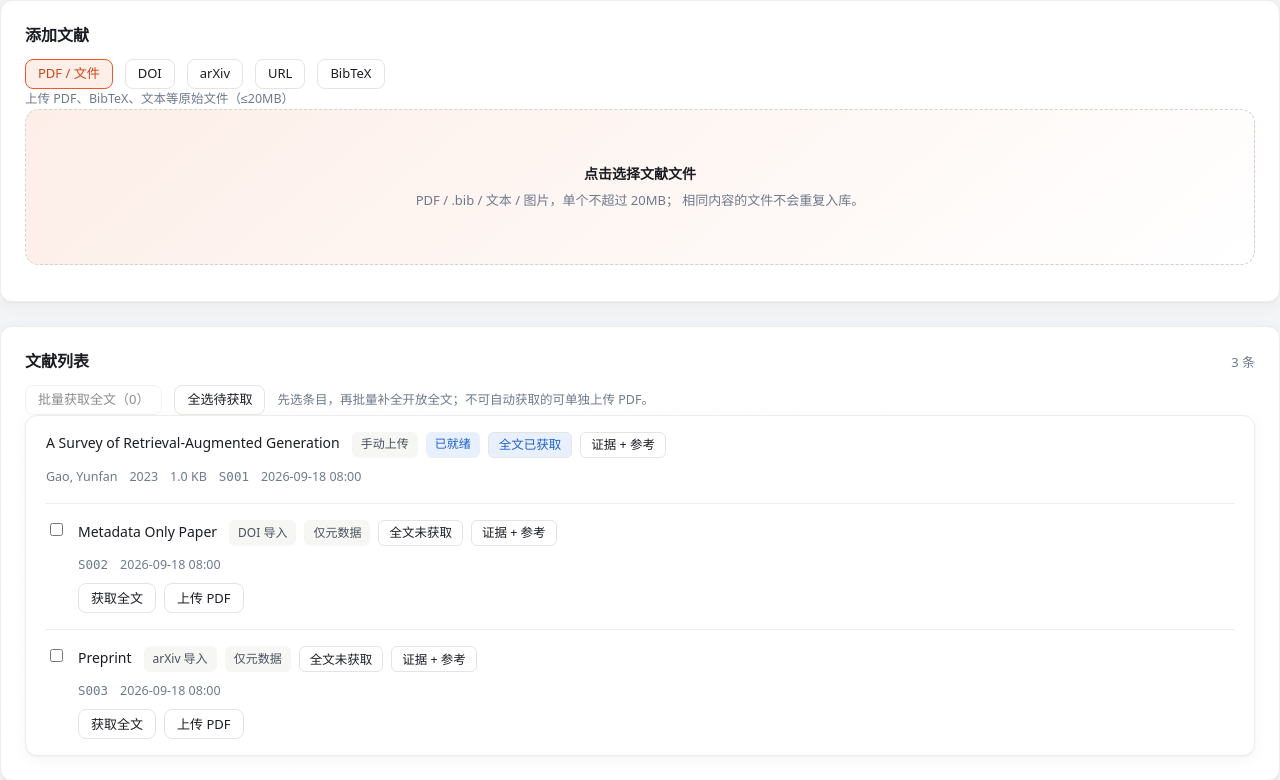
Test: SourcesPanel 批量获取全文（M9.3） › 勾选多条 → 批量端点携带 id；混合 summary 如实呈现（失败明细折叠）
The image size is (1280, 780).
Expected: the heading "文献列表" is shown, [25,351,89,372]
Expected: the button with test id "batch-resolve-fulltext" is disabled, [25,385,162,415]
Click the checkbox named "选择 Metadata Only Paper": (56, 529) [50,523,63,536]
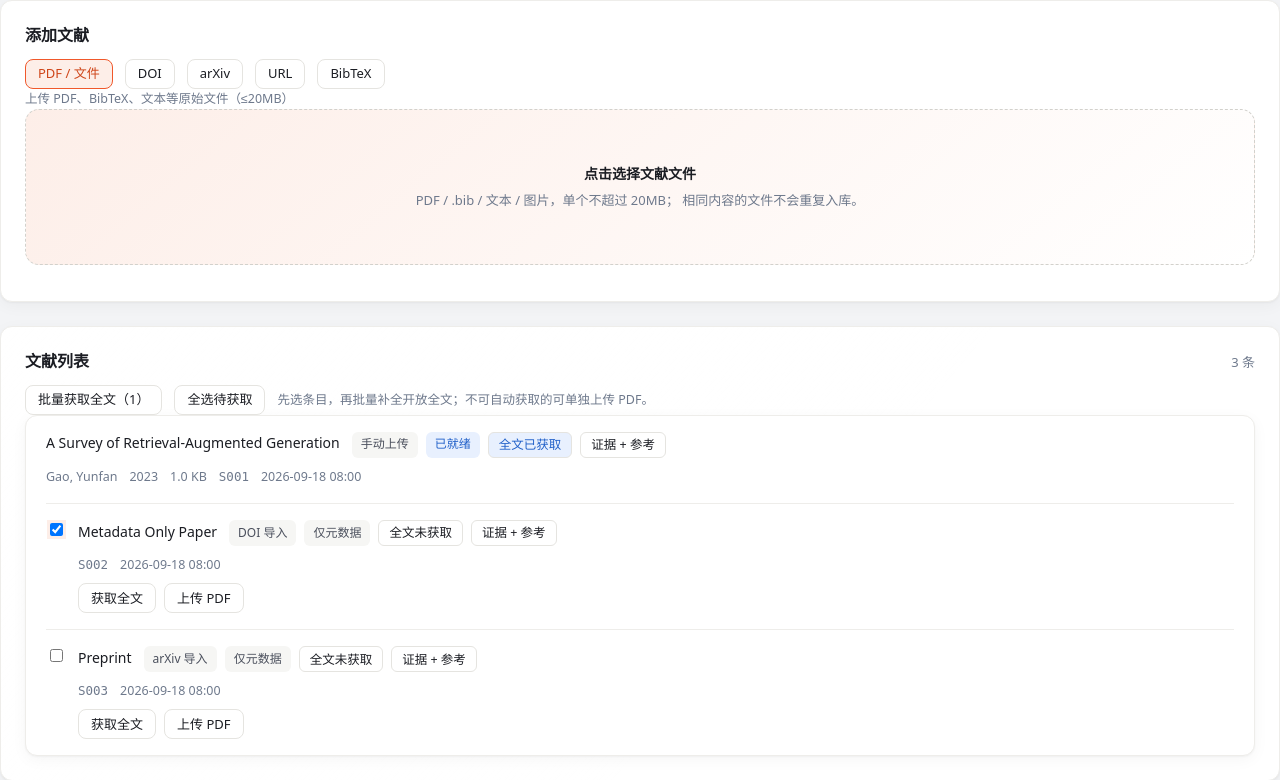
Click the checkbox named "选择 Preprint": (56, 656) [50,649,63,662]
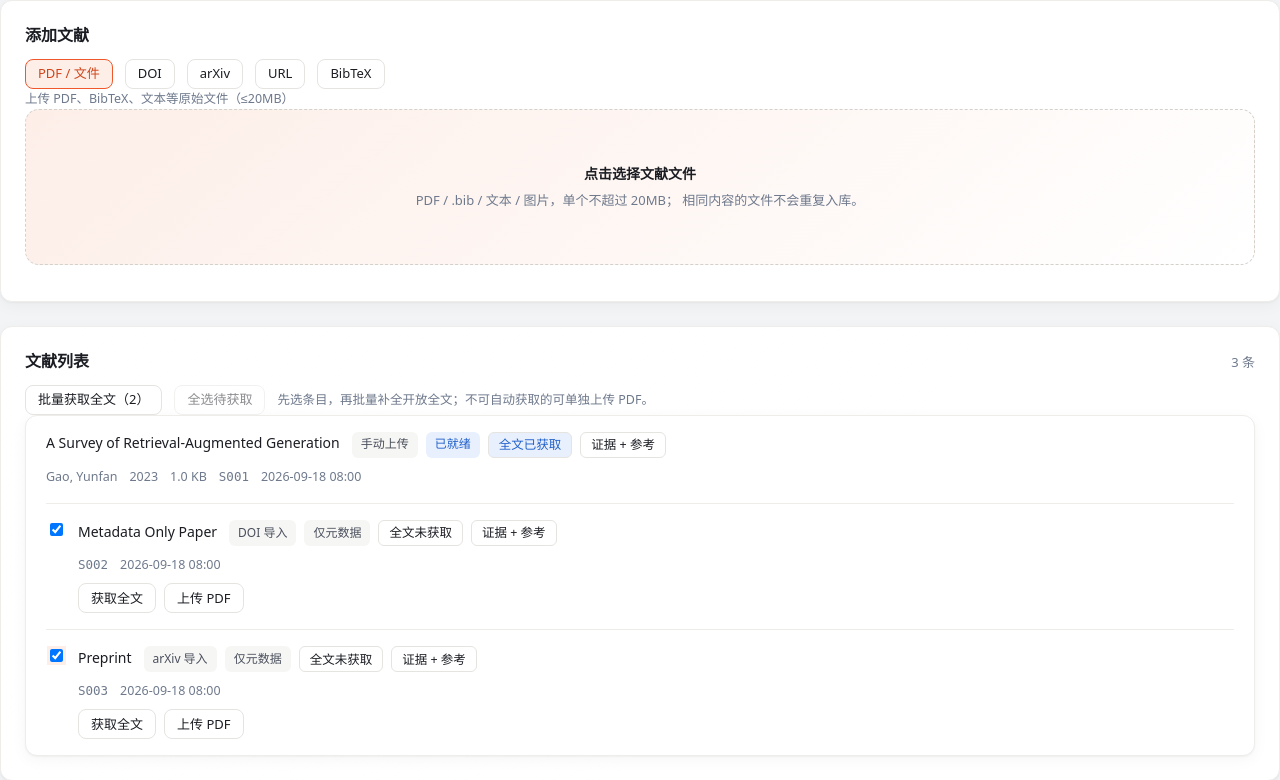
Click the button with test id "batch-resolve-fulltext": (94, 400) [25,385,162,415]
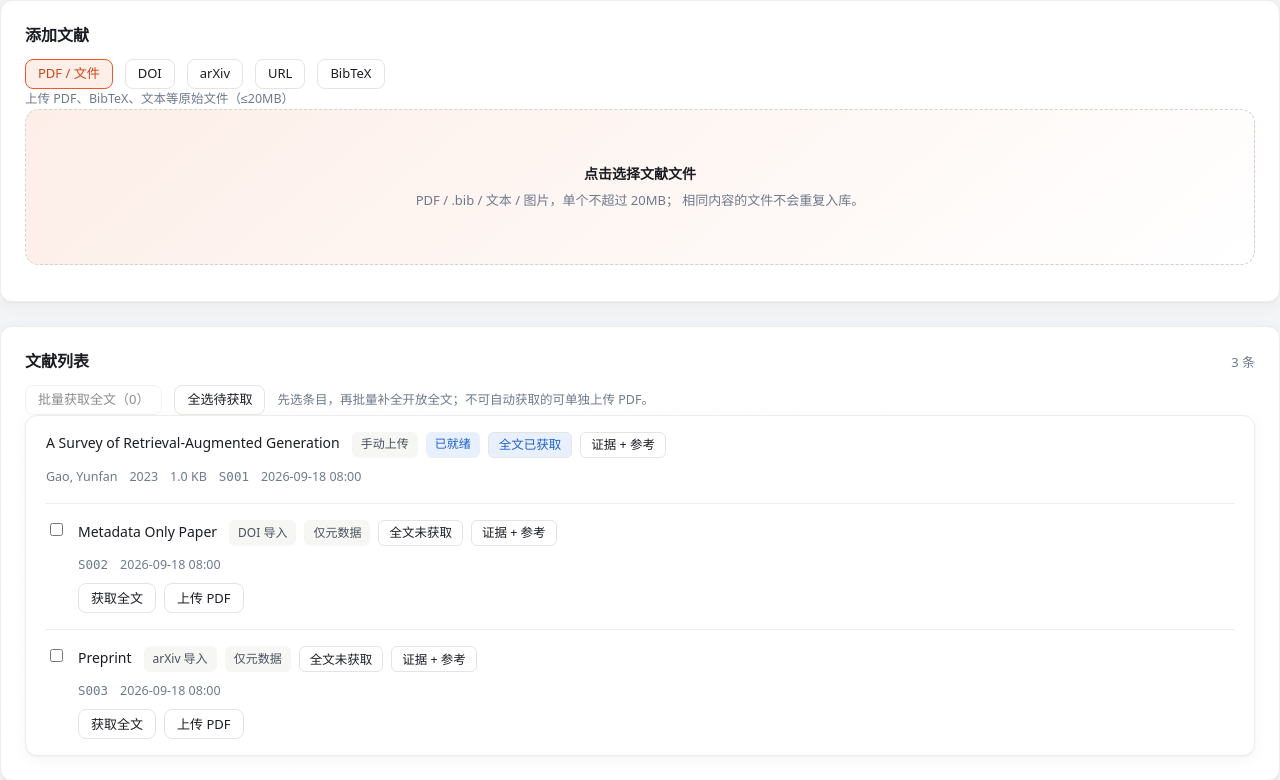
Click the checkbox named "选择 Metadata Only Paper": (56, 529) [50,523,63,536]
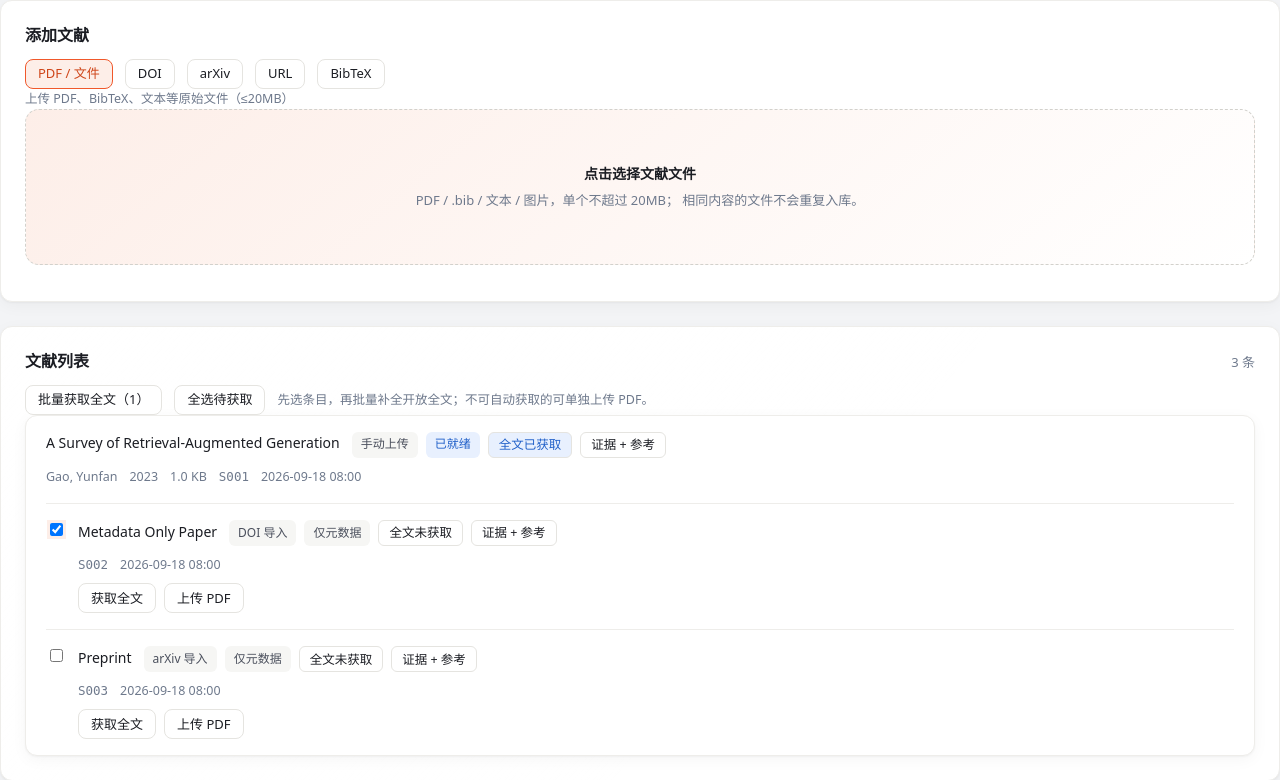
Click the checkbox named "选择 Preprint": (56, 656) [50,649,63,662]
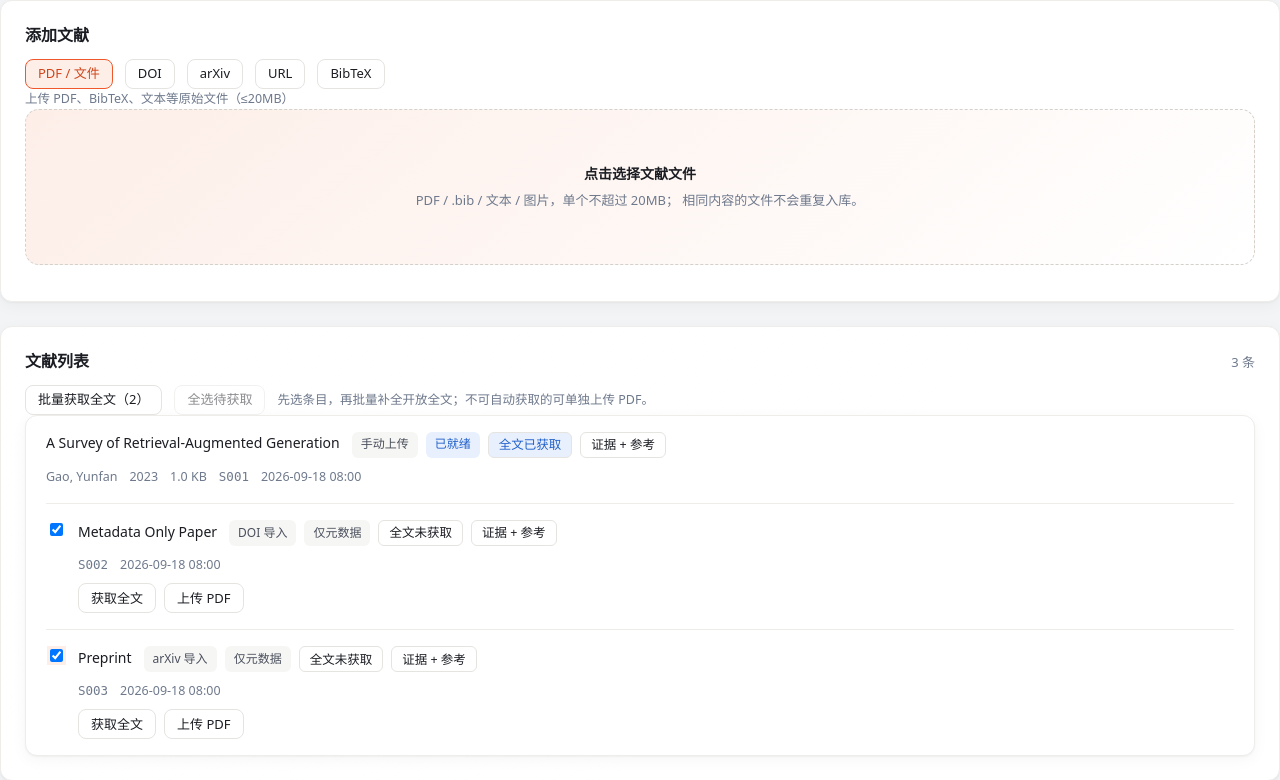
Click the button with test id "batch-resolve-fulltext": (94, 400) [25,385,162,415]
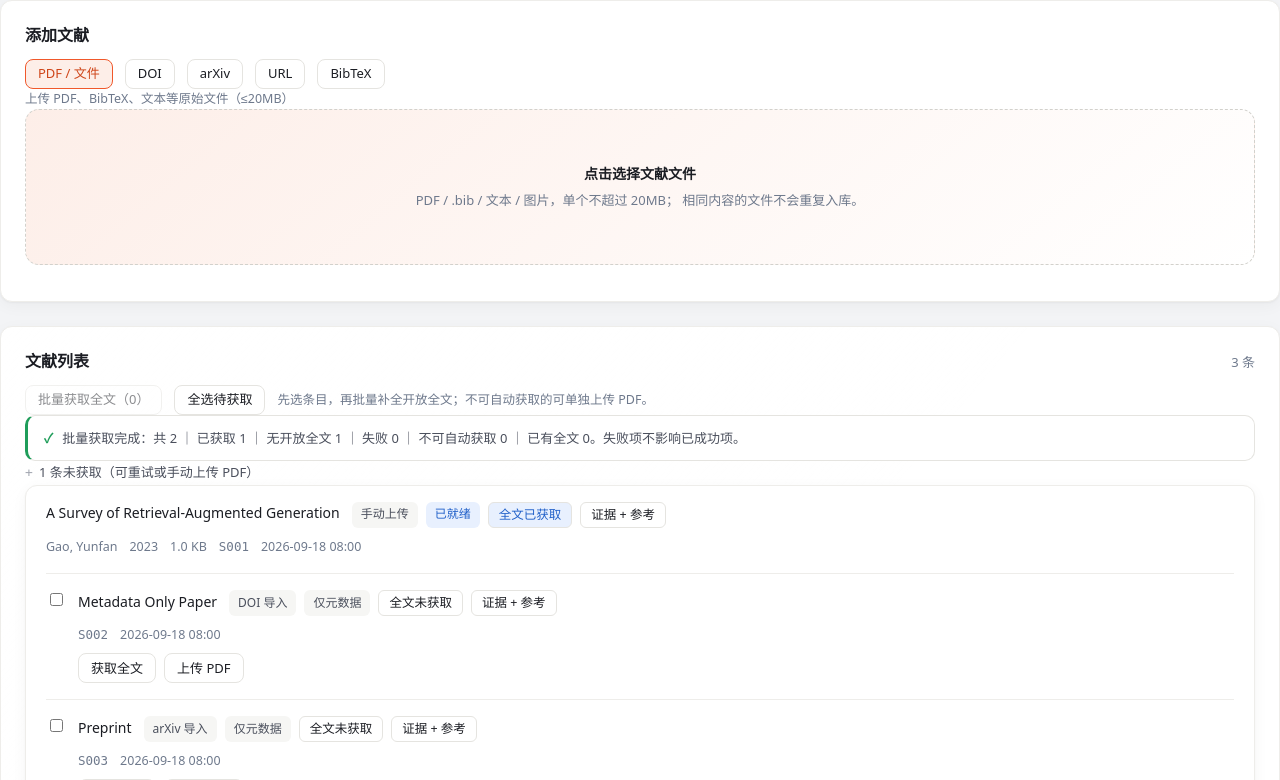
Expected: the text "批量获取完成：共 2 ｜ 已获取 1 ｜ 无开放全文 1" is shown, [44,429,746,447]
